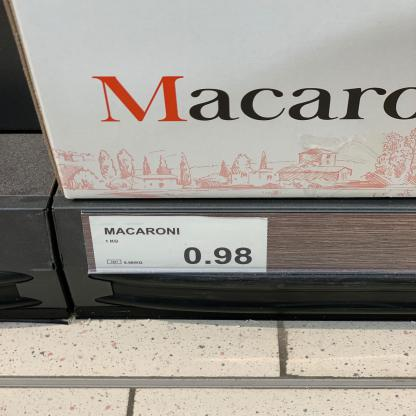prtg: (91, 218, 268, 273)
